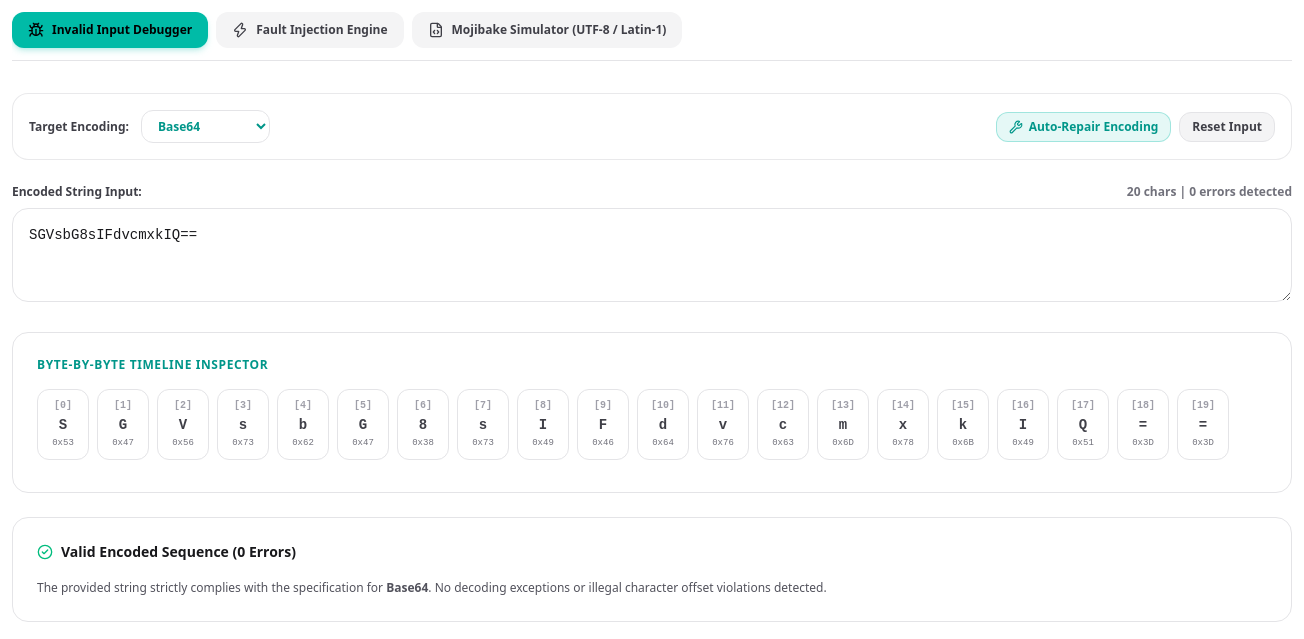
Scenario: Encoding Error Playground Component & Page › switches playground mode tabs
Click the tab "Mojibake Simulator (UTF-8 / Latin-1)" at (547, 30), box [412,12,682,48]
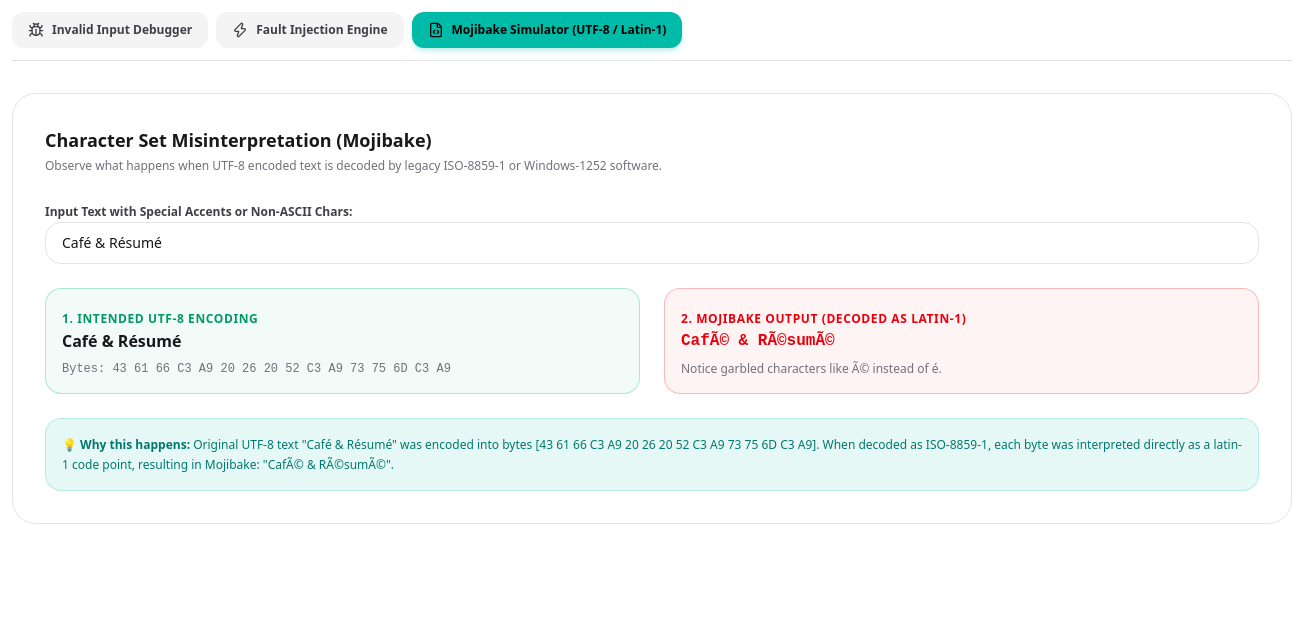
Expected: the heading "Character Set Misinterpretation (Mojibake)" is shown, [45,128,432,152]
